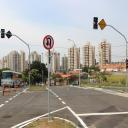NoVirarEsquerda: (28, 70, 31, 75)
NoVirarU: (43, 36, 54, 50)
